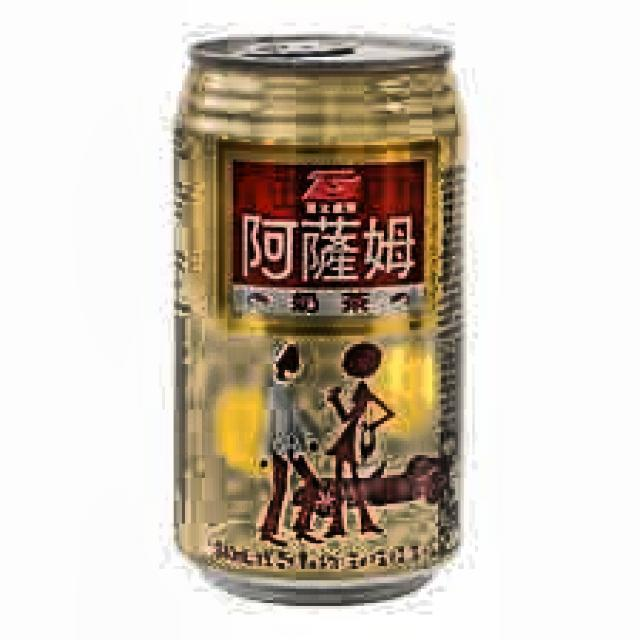litter: (162, 21, 474, 612)
